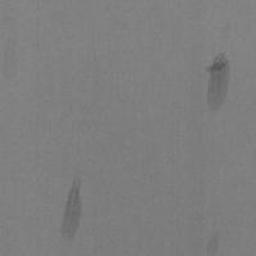Water spot: (204, 50, 233, 115), (59, 177, 84, 243), (205, 233, 220, 256)
